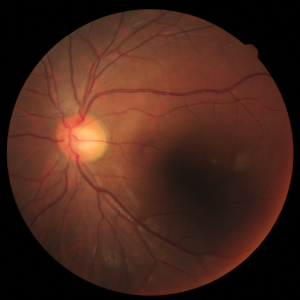glaucoma: (38, 90, 239, 214)
